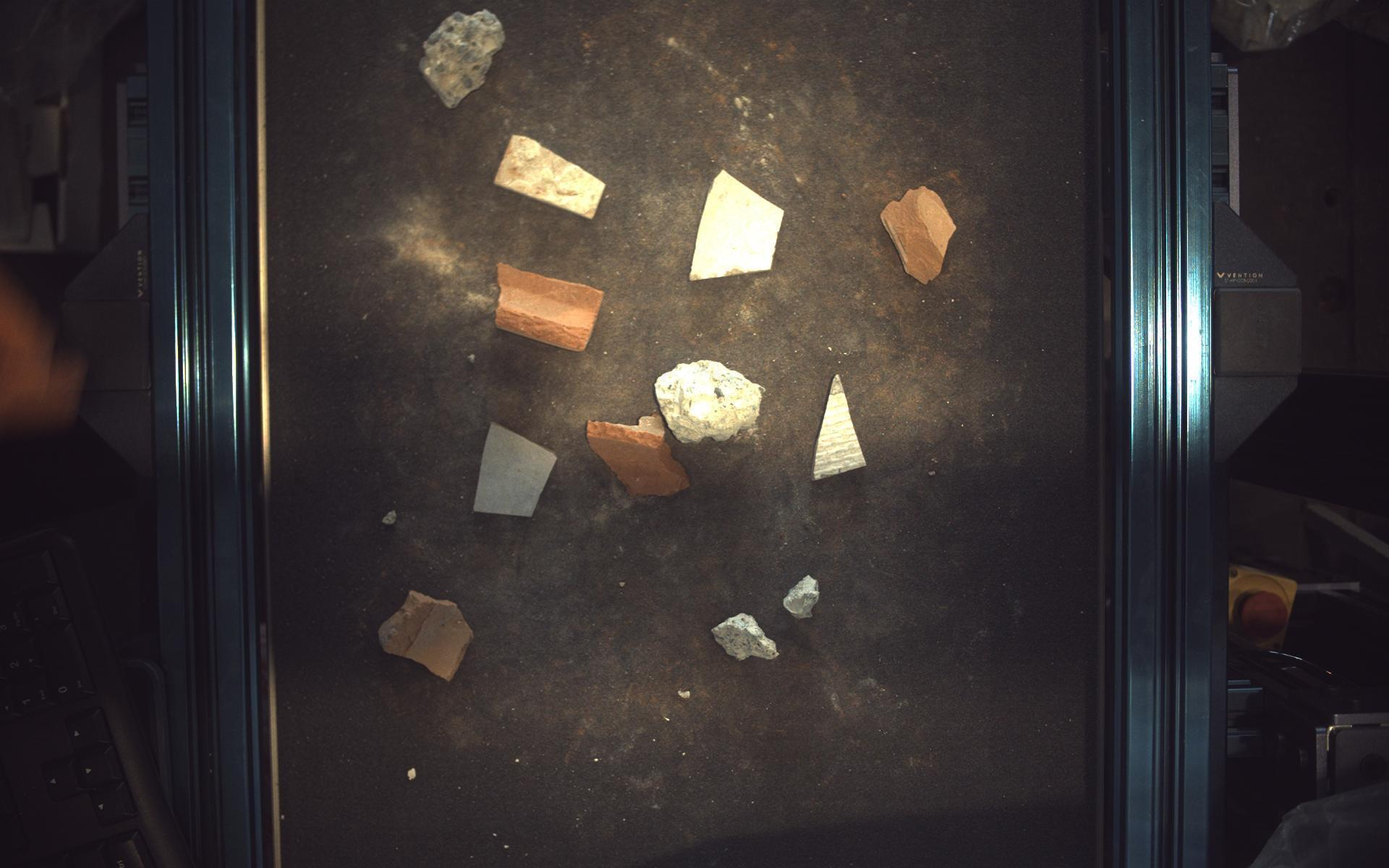brick: (496, 263, 604, 352), (378, 592, 473, 682), (587, 414, 690, 496), (883, 186, 958, 284)
concrete: (656, 359, 764, 443), (420, 9, 505, 106), (713, 614, 780, 661), (784, 576, 821, 619)
tile: (691, 169, 785, 280), (495, 134, 606, 218), (474, 422, 557, 517), (815, 374, 868, 480)
